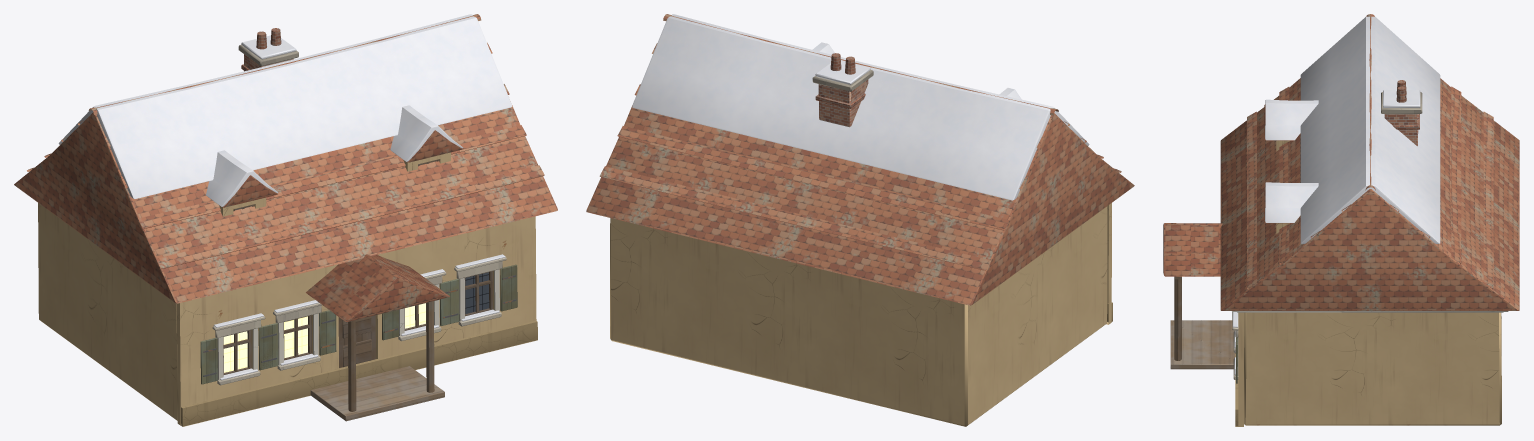
The model's file is klep_house.glb.
3 views of the same model, side by side, from view 1: azimuth 30°, elevation 25°; view 2: azimuth 150°, elevation 25°; view 3: azimuth 270°, elevation 25° (orthographic). The views are drawn at different scales.
Visible parts, largest first — view 1: klep_house; view 2: klep_house; view 3: klep_house.
Boxes of the visible parts, box(x1,y1,x2,y2) form: klep_house: box(14, 14, 557, 426); klep_house: box(586, 14, 1134, 426); klep_house: box(1163, 14, 1519, 426).
Size of what is drawn, in the model's own units: 10.91 by 7.69 by 9.48.
Materials: 17 (17 with a texture image).
